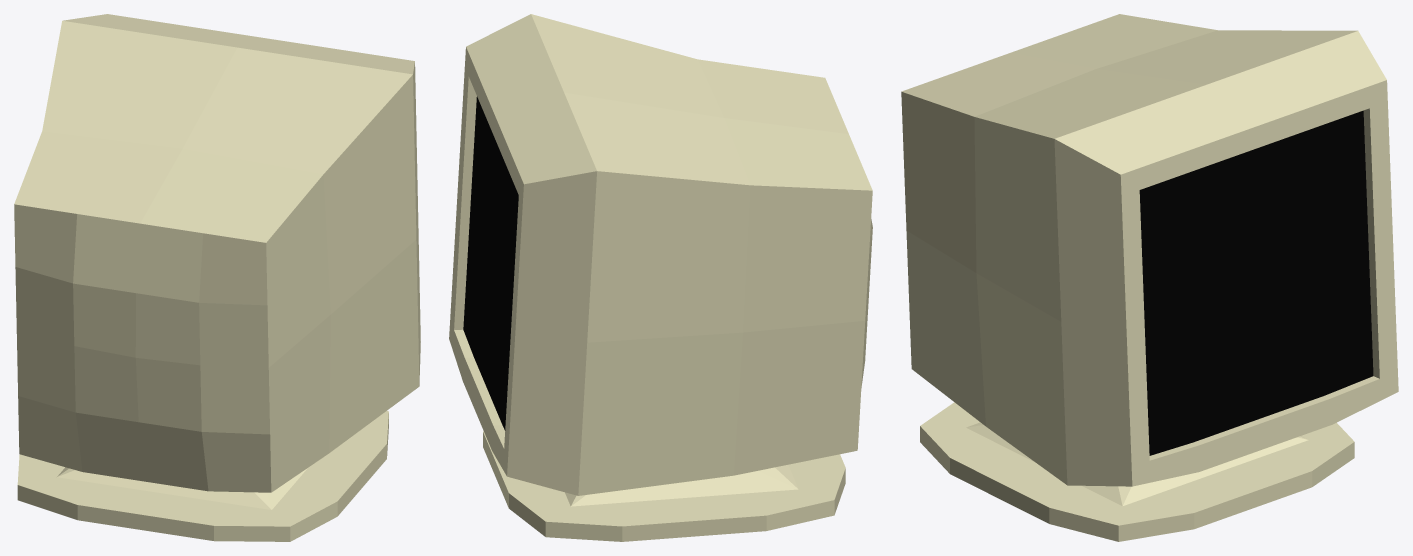
The model's file is Monitor_left.fbx.
The picture shows the model from 3 angles, left to right: view 1: azimuth 30°, elevation 25°; view 2: azimuth 150°, elevation 25°; view 3: azimuth 270°, elevation 25°; orthographic projection. The views are drawn at different scales.
Parts seen in each view (by area): view 1: Monitor_left; view 2: Monitor_left; view 3: Monitor_left.
Boxes of the visible parts, x1,y1,x2,y2 form: Monitor_left: (14,14,420,541); Monitor_left: (449,14,872,541); Monitor_left: (901,14,1398,541).
Size of the model in its own units: 102 by 88.92 by 100.
